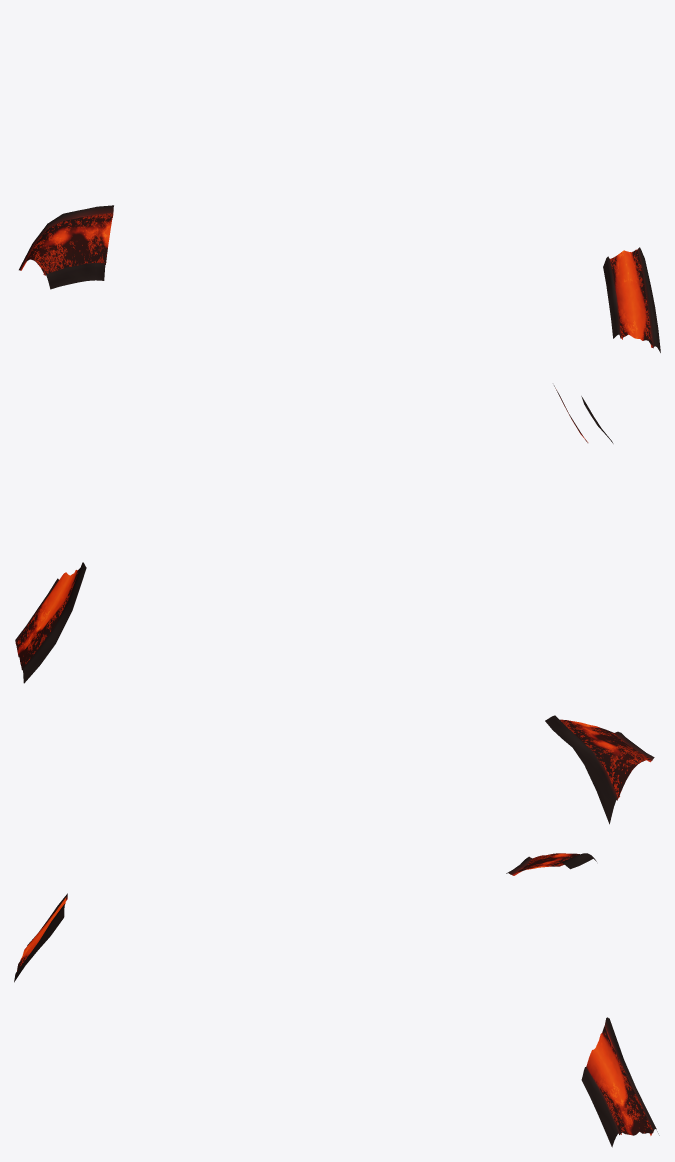
File: lava_seg_4.glb
3 renders of one model, top to bottom at view 1: azimuth 30°, elevation 25°; view 2: azimuth 150°, elevation 25°; view 3: azimuth 270°, elevation 25°, orthographic. The views are drawn at different scales.
Visible parts, largest first — view 1: seg; view 2: seg; view 3: seg.
Part boxes in pixels (<box>): seg: <box>19,205,660,352</box>; seg: <box>15,385,654,824</box>; seg: <box>14,853,659,1147</box>.
Bounding box in the file's own units: 66.17 × 16.81 × 63.46.
